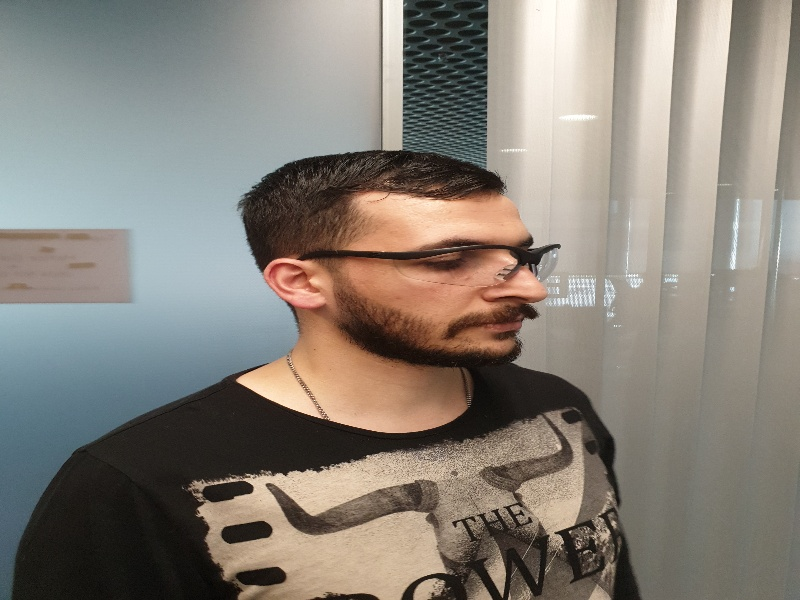Gozluk: (300, 243, 561, 280)
